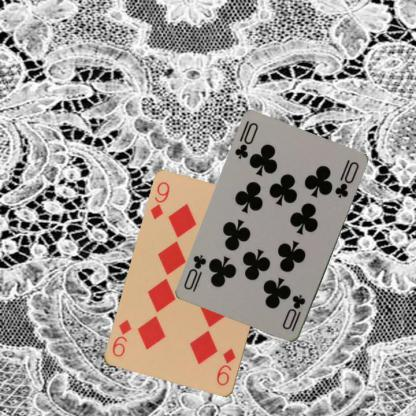10c: (232, 118, 260, 160), (280, 292, 307, 334)
9d: (214, 346, 238, 388), (148, 179, 171, 221)
